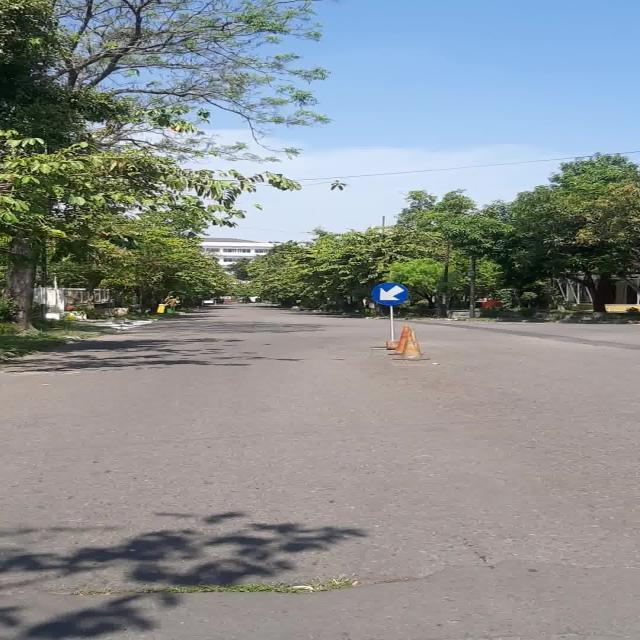Lajur Kiri: (372, 282, 408, 306)
